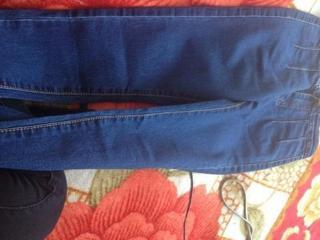trousers: (0, 6, 319, 174)
